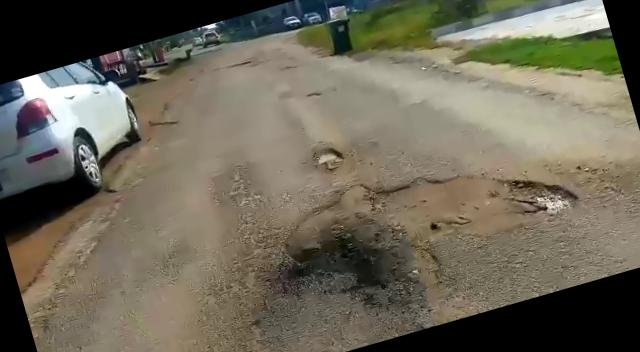pothole: (269, 127, 586, 296), (310, 144, 348, 176)
